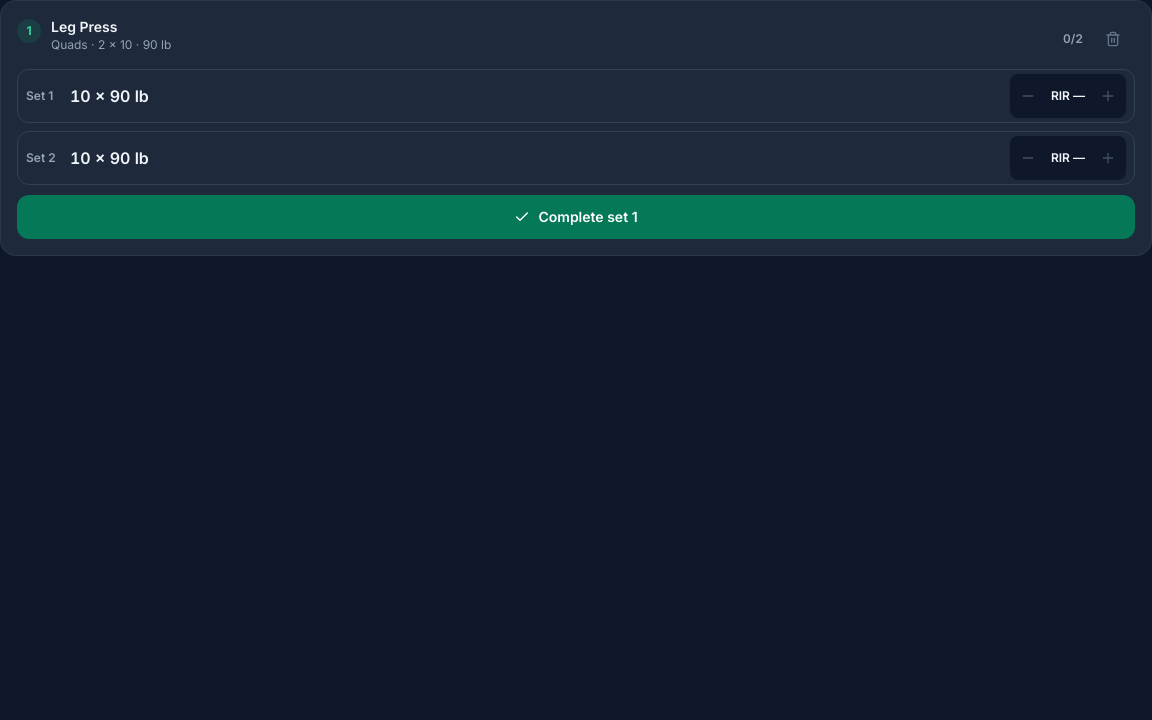
Scenario: quick-complete set tiles › opens the logger sheet from the explicit edit control instead
Click the button with aria-label "edit set 1" at (80, 96), box [70, 74, 1002, 118]
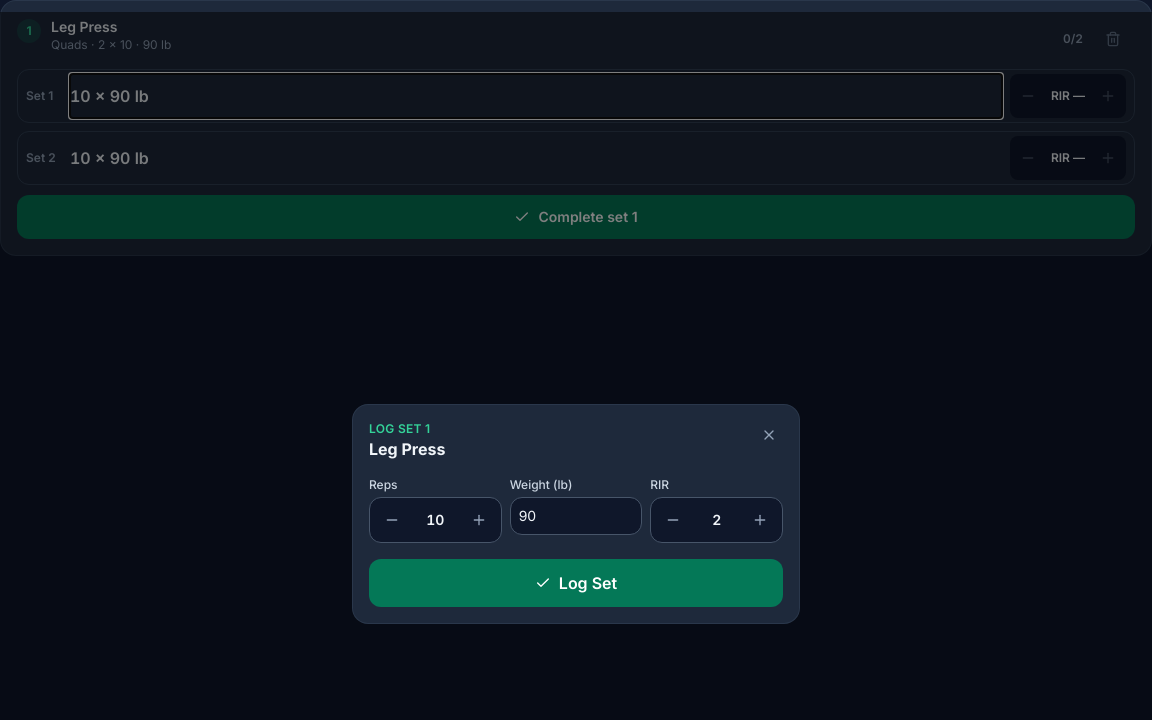
Now the dialog "Log Set" is shown
